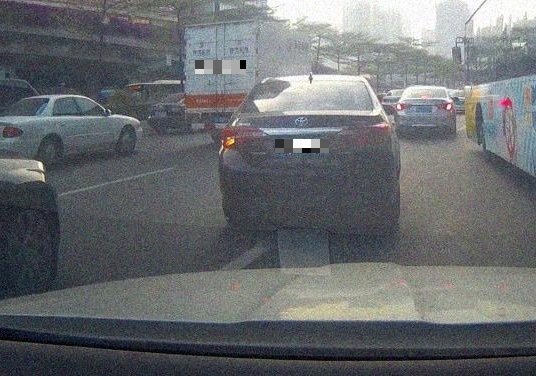L_light: (220, 126, 267, 150), (396, 103, 411, 110)
R_light: (336, 123, 391, 149), (438, 102, 453, 110)
T_light: (292, 104, 313, 111), (421, 95, 431, 98)
day-brake: (395, 85, 456, 138)
day-left: (218, 75, 394, 232)
plate_1: (195, 60, 246, 74)
plate_2: (275, 139, 329, 153)
